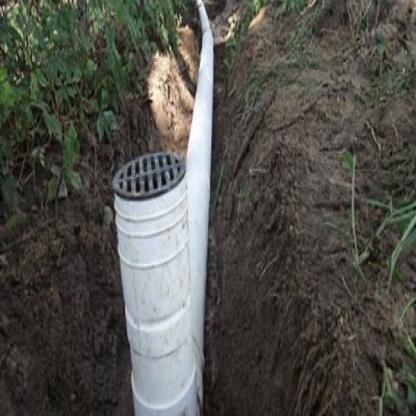PVC: (113, 8, 215, 415)
